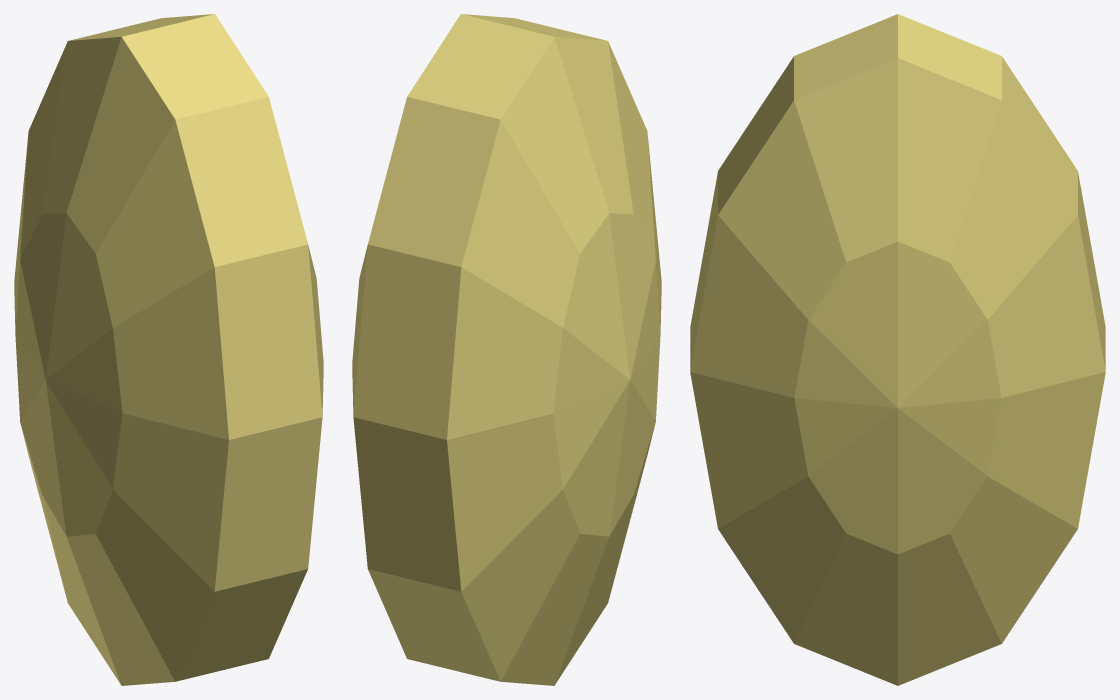
Rendered from SM_Amber.glb.
3 renders of one model, left to right at view 1: azimuth 30°, elevation 25°; view 2: azimuth 150°, elevation 25°; view 3: azimuth 270°, elevation 25°, orthographic. The views are drawn at different scales.
Parts seen in each view (by area): view 1: SM_Amber; view 2: SM_Amber; view 3: SM_Amber.
Boxes of the visible parts, box(x1,y1,x2,y2) form: SM_Amber: box(14, 14, 323, 685); SM_Amber: box(352, 14, 661, 685); SM_Amber: box(690, 14, 1105, 685).
Bounding box in the file's own units: 0.099 × 0.25 × 0.15.
